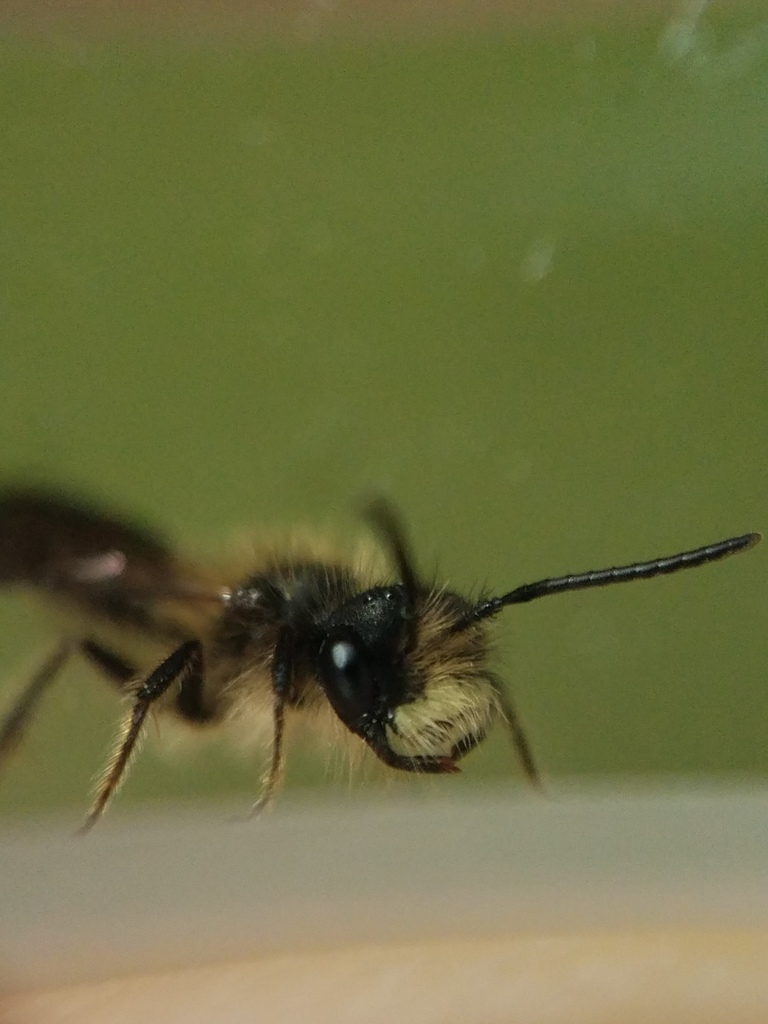not_bumblebee: (1, 469, 762, 842)
